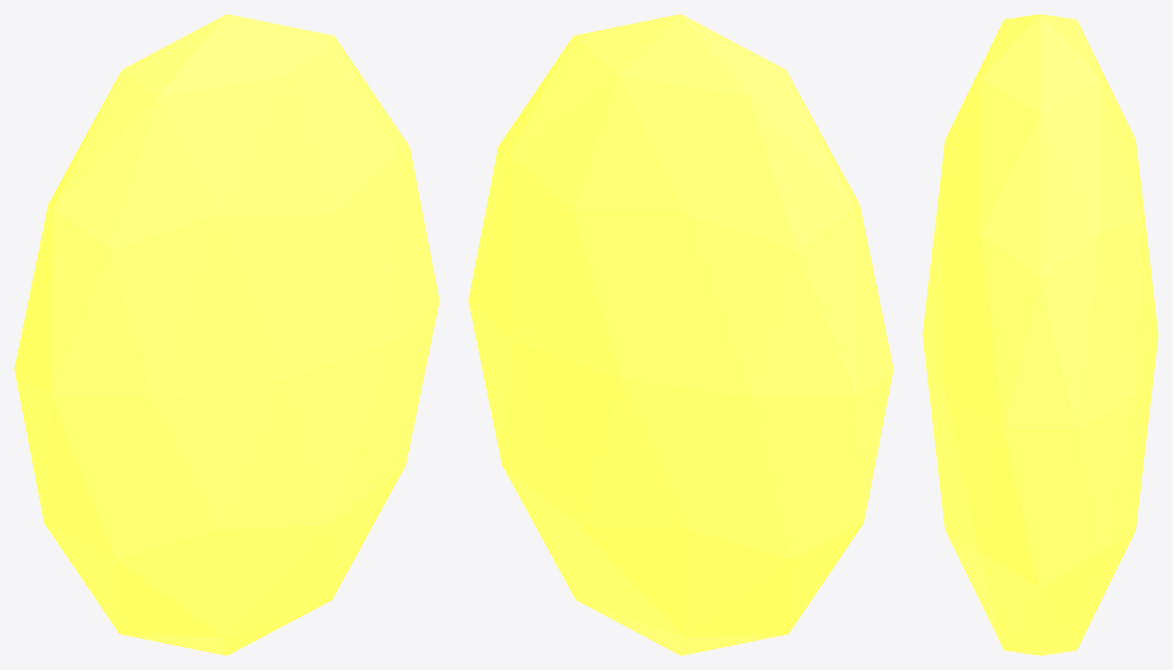
File: SM_Interact_AncientSigil.fbx
3 views of the same model, side by side, from view 1: azimuth 30°, elevation 25°; view 2: azimuth 150°, elevation 25°; view 3: azimuth 270°, elevation 25° (orthographic).
Parts seen in each view (by area): view 1: SM_Interact_AncientSigil; view 2: SM_Interact_AncientSigil; view 3: SM_Interact_AncientSigil.
Boxes of the visible parts, left/top/right/bottom form: SM_Interact_AncientSigil: left=14, top=14, right=439, bottom=655; SM_Interact_AncientSigil: left=468, top=14, right=893, bottom=655; SM_Interact_AncientSigil: left=922, top=14, right=1158, bottom=655.
Size of the model in its own units: 0.7608 by 0.4 by 1.2.
